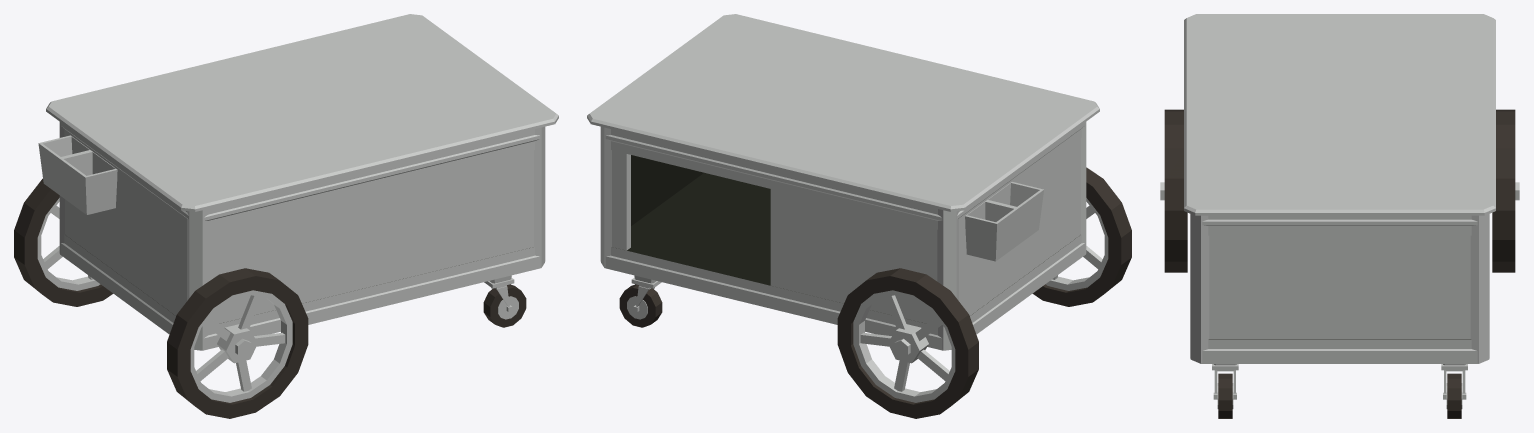
The model's file is SM_Cart_Body_01.fbx.
3 renders of one model, left to right at view 1: azimuth 30°, elevation 25°; view 2: azimuth 150°, elevation 25°; view 3: azimuth 270°, elevation 25°, orthographic. The views are drawn at different scales.
Visible parts, largest first — view 1: SM_Cart_Body_01; view 2: SM_Cart_Body_01; view 3: SM_Cart_Body_01.
Part boxes in pixels (x1,y1,x2,y2): SM_Cart_Body_01: [14, 14, 558, 418]; SM_Cart_Body_01: [587, 14, 1131, 418]; SM_Cart_Body_01: [1160, 14, 1519, 418].
Bounding box in the file's own units: 1.55 × 0.786 × 1.13.
1 material, 1 textured.
